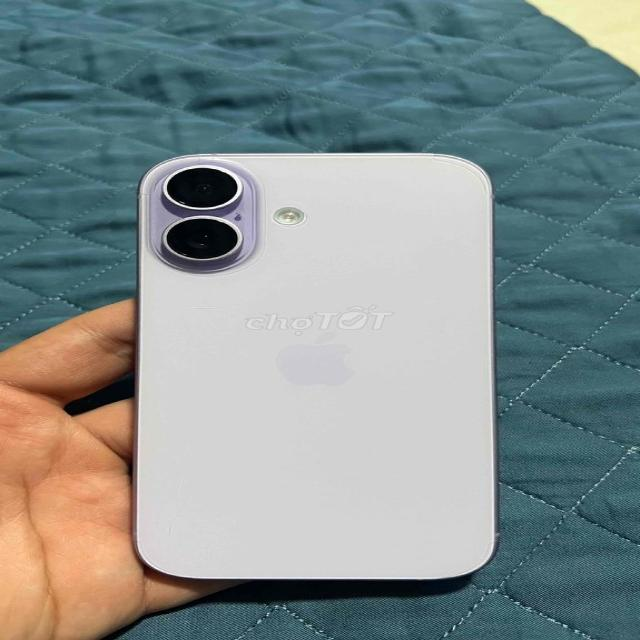gen_17: (125, 149, 520, 600)
